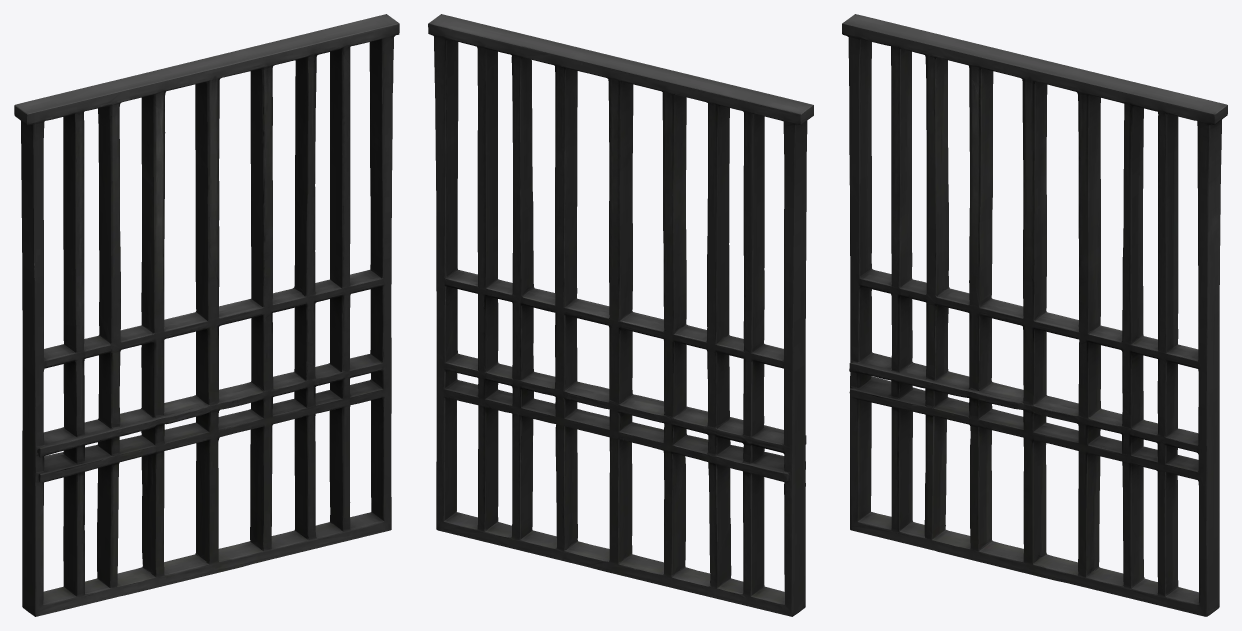
Rendered from gate_metal_black.glb.
3 views of the same model, side by side, from view 1: azimuth 30°, elevation 25°; view 2: azimuth 150°, elevation 25°; view 3: azimuth 330°, elevation 25° (orthographic).
Visible parts, largest first — view 1: geometry_0; view 2: geometry_0; view 3: geometry_0.
Boxes of the visible parts, x1,y1,x2,y2 form: geometry_0: [14, 14, 399, 616]; geometry_0: [428, 14, 813, 616]; geometry_0: [842, 14, 1227, 616].
Bounding box in the file's own units: 0.7732 × 1 × 0.0669.
1 material, 1 textured.
